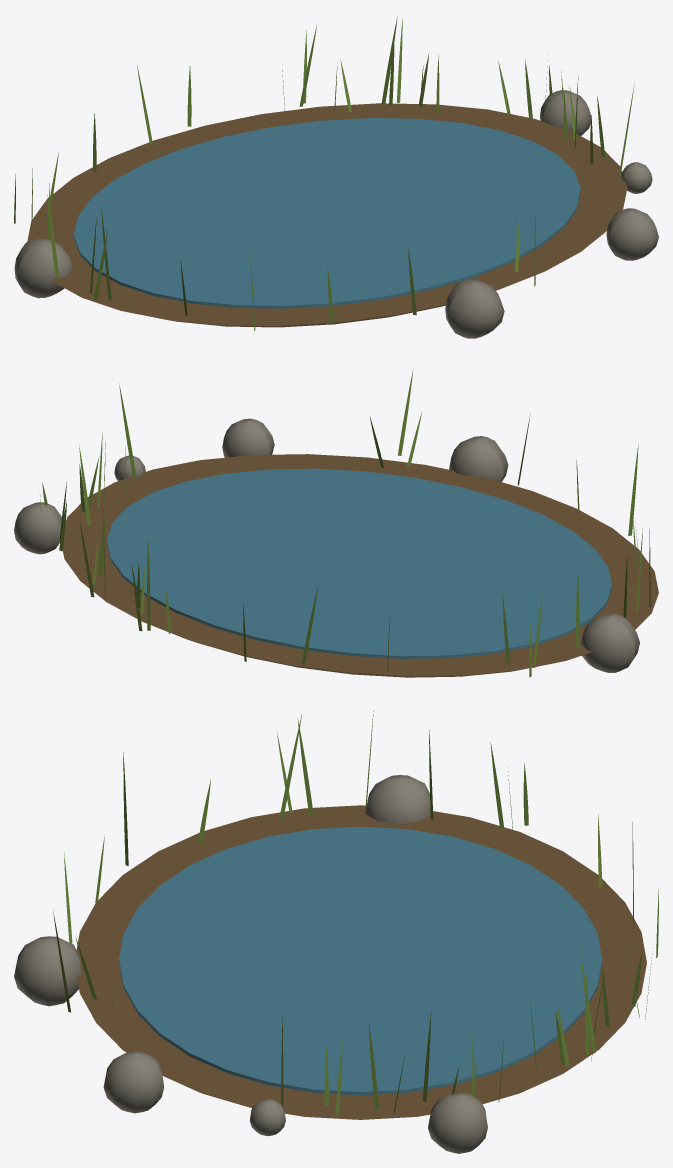
File: watering_hole.glb
The picture shows the model from 3 angles, top to bottom: view 1: azimuth 30°, elevation 25°; view 2: azimuth 150°, elevation 25°; view 3: azimuth 270°, elevation 25°; orthographic projection. The views are drawn at different scales.
Parts seen in each view (by area): view 1: Watering hole; view 2: Watering hole; view 3: Watering hole.
Part boxes in pixels (box(x1,y1,x2,y2)): Watering hole: box(14, 16, 658, 338); Watering hole: box(14, 369, 658, 677); Watering hole: box(14, 710, 658, 1153).
Size of the model in its own units: 9.03 by 1.75 by 7.21.
